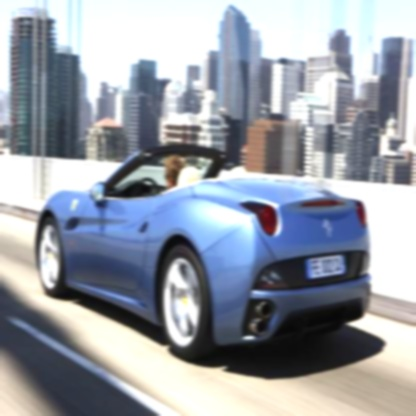Vehicle: (35, 144, 374, 364)
